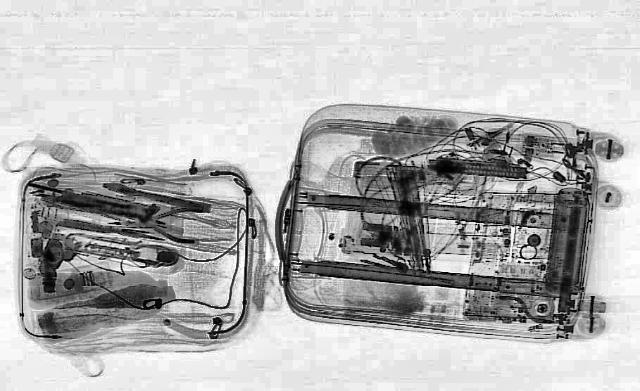Pliers: (104, 201, 204, 245)
